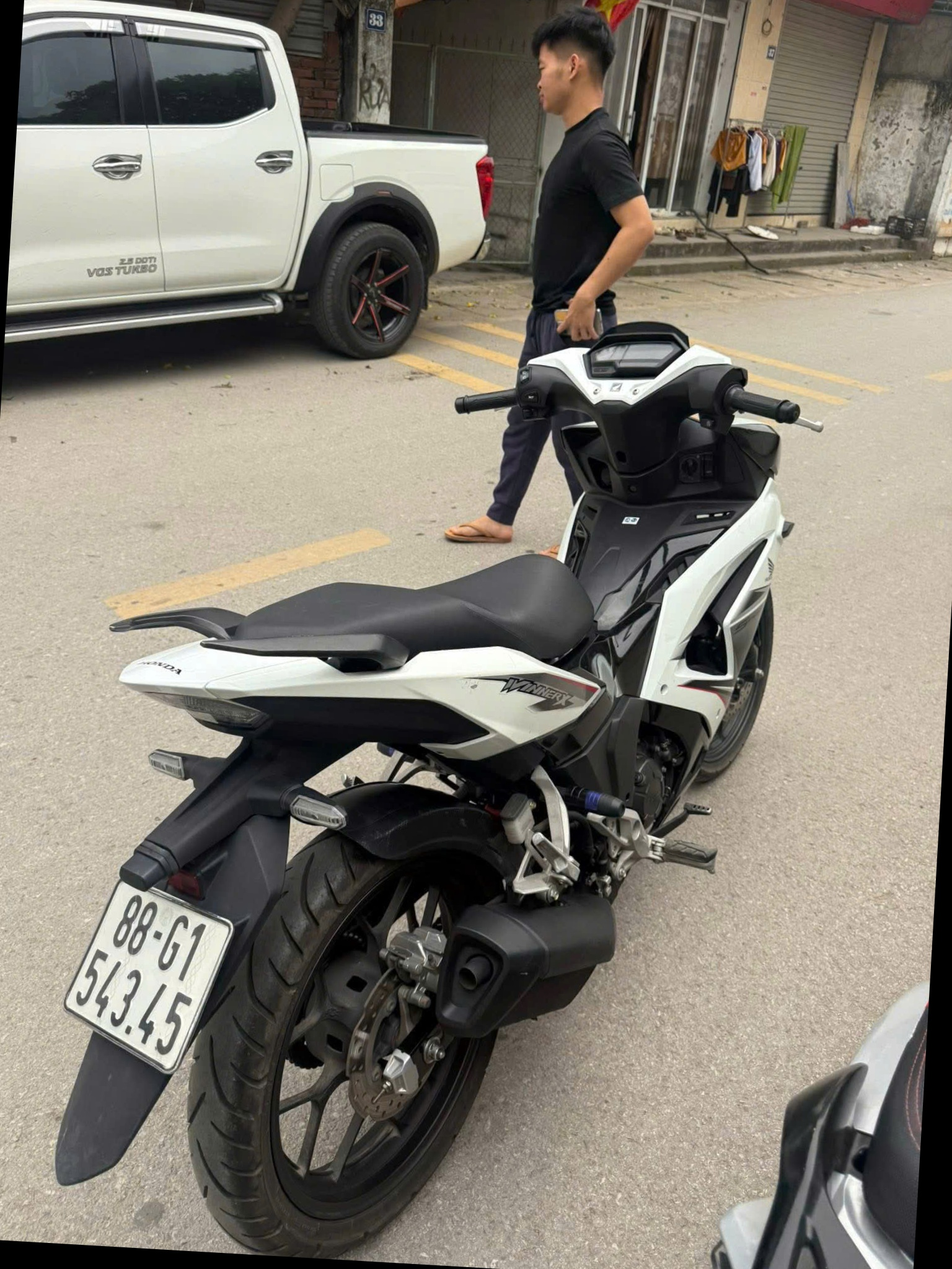Bien-so: (85, 897, 278, 1113)
